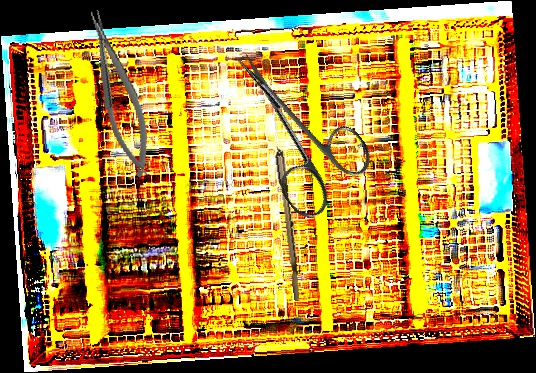Iris Scissors: (199, 26, 383, 225)
Needle Holder: (81, 5, 159, 181)
Surgical Spoon: (266, 98, 305, 302)
